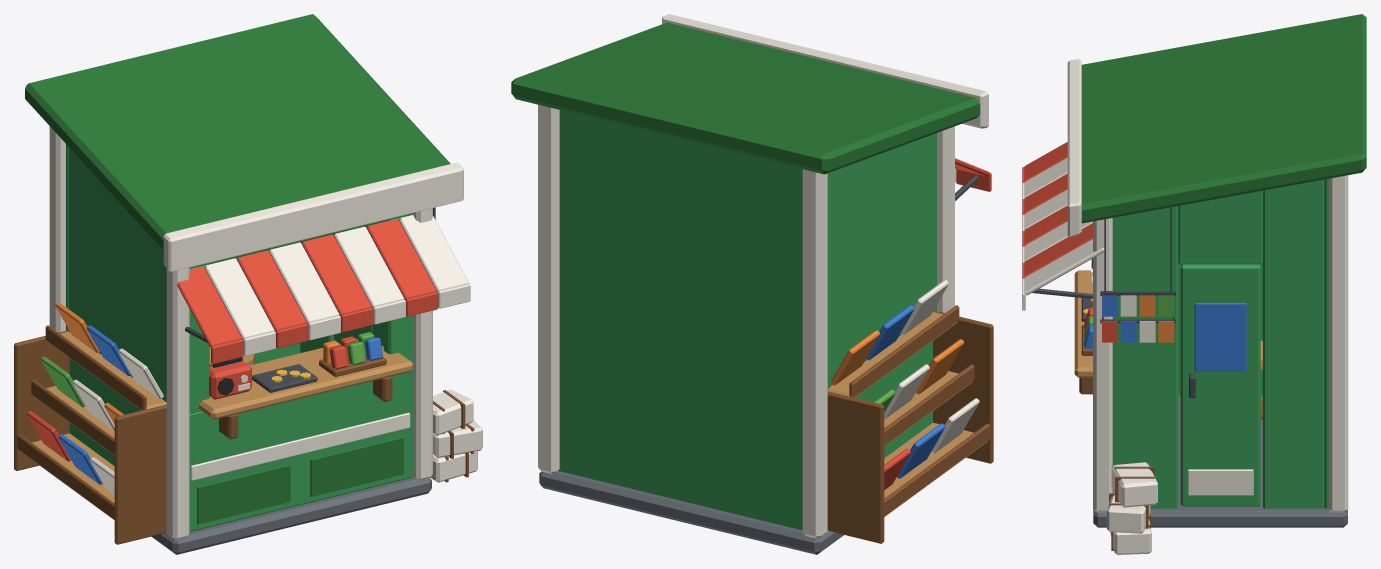
File: green-newsstand-kiosk.glb
3 views of the same model, side by side, from view 1: azimuth 30°, elevation 25°; view 2: azimuth 150°, elevation 25°; view 3: azimuth 270°, elevation 25° (orthographic). The views are drawn at different scales.
Visible parts, largest first — view 1: Roof, Wall_Left, Front_Lower, Roof_Trim, Rack_Side_-1, Corner_Post_LF, Base, Rack_Side_1, Counter_Top, Front_Panel_L, Front_Panel_R, Corner_Post_RF (+41 smaller); view 2: Wall_Back, Roof, Wall_Left, Corner_Post_LB, Rack_Side_1, Corner_Post_RB, Base, Rack_Side_-1, Roof_Trim, Corner_Post_LF, Rack_Lip_2, Rack_Lip_0 (+11 smaller); view 3: Roof, Wall_Right_Back, Wall_Right_Front, Door, Corner_Post_RB, Wall_Right_Header, Corner_Post_RF, Base, Door_Window, Roof_Trim, Door_Kick, Bundle_2 (+13 smaller).
Boxes of the visible parts, bbox=[...] form: Roof: bbox=[25, 14, 450, 250]; Wall_Left: bbox=[69, 147, 166, 465]; Front_Lower: bbox=[189, 360, 411, 531]; Roof_Trim: bbox=[163, 162, 463, 271]; Rack_Side_-1: bbox=[114, 404, 166, 544]; Corner_Post_LF: bbox=[166, 267, 189, 539]; Base: bbox=[151, 477, 431, 554]; Rack_Side_1: bbox=[14, 330, 69, 470]; Counter_Top: bbox=[199, 346, 413, 419]; Front_Panel_L: bbox=[197, 464, 290, 524]; Front_Panel_R: bbox=[310, 437, 403, 496]; Corner_Post_RF: bbox=[413, 208, 432, 480]; Wall_Back: bbox=[558, 110, 802, 530]; Roof: bbox=[511, 22, 980, 174]; Wall_Left: bbox=[827, 133, 936, 457]; Corner_Post_LB: bbox=[802, 169, 827, 538]; Rack_Side_1: bbox=[827, 391, 884, 543]; Corner_Post_RB: bbox=[538, 104, 559, 473]; Base: bbox=[539, 470, 843, 554]; Rack_Side_-1: bbox=[933, 311, 993, 463]; Roof_Trim: bbox=[662, 14, 988, 128]; Corner_Post_LF: bbox=[937, 126, 954, 312]; Rack_Lip_2: bbox=[849, 305, 959, 397]; Rack_Lip_0: bbox=[884, 423, 989, 515]; Roof: bbox=[1081, 14, 1366, 223]; Wall_Right_Back: bbox=[1263, 179, 1324, 508]; Wall_Right_Front: bbox=[1112, 206, 1178, 508]; Door: bbox=[1180, 264, 1260, 506]; Corner_Post_RB: bbox=[1328, 175, 1348, 512]; Wall_Right_Header: bbox=[1178, 190, 1262, 264]; Corner_Post_RF: bbox=[1093, 218, 1112, 512]; Base: bbox=[1093, 395, 1347, 527]; Door_Window: bbox=[1194, 303, 1246, 371]; Roof_Trim: bbox=[1067, 59, 1081, 237]; Door_Kick: bbox=[1187, 469, 1253, 495]; Bundle_2: bbox=[1111, 462, 1157, 507].
Bounding box in the file's own units: 9.04 × 8.95 × 7.31.
